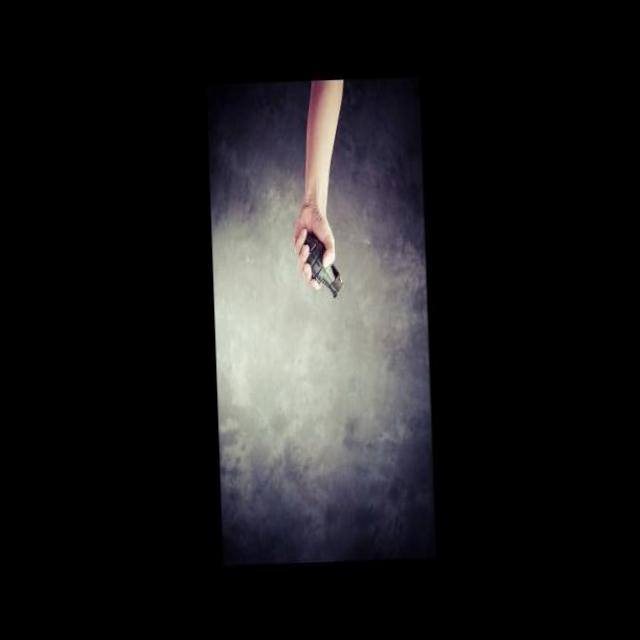grenade: (300, 225, 350, 308)
